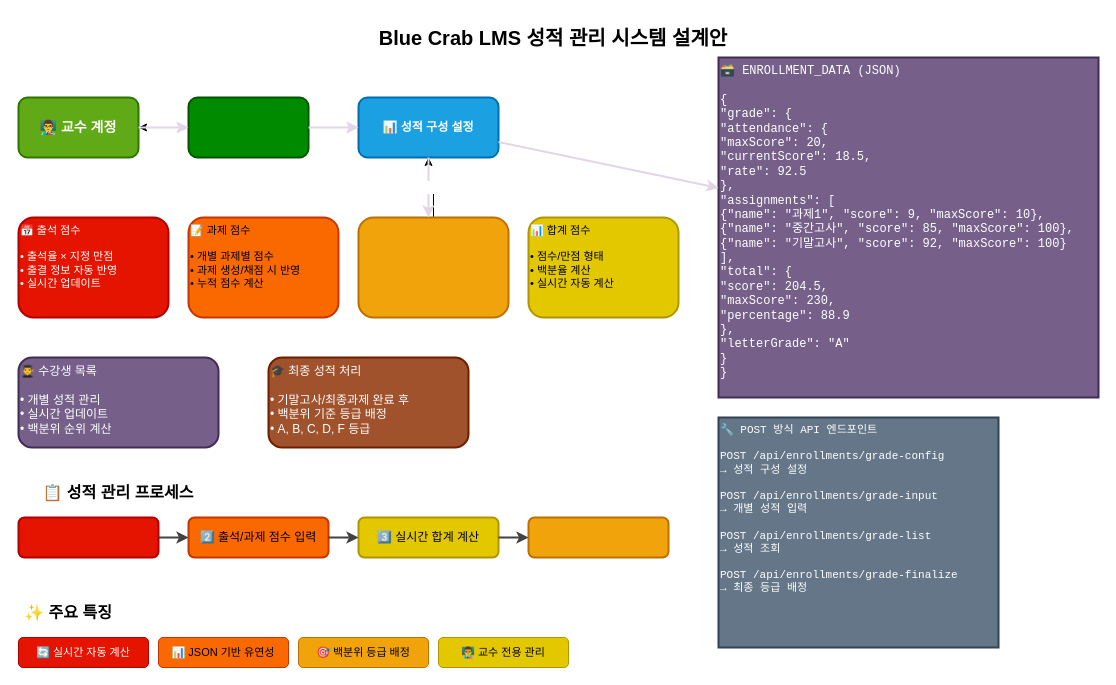
The diagram is 1116 pixels wide and 685 high, and some of its shapes have lost their labels. The shapes that lost their labels are listed below. From the top down, each one's box as (x1, y1, x2, y2) in pixels, then its label:
(187, 96, 309, 158): 담당 강의 선택
(357, 216, 509, 318): 🎯 중간/기말고사 • 과제의 특수 형태 • 과제명: 중간고사/기말고사 • 동일한 채점 방식
(17, 516, 159, 558): 1️⃣ 성적 구성 설정
(527, 516, 669, 558): 4️⃣ 최종 등급 배정
